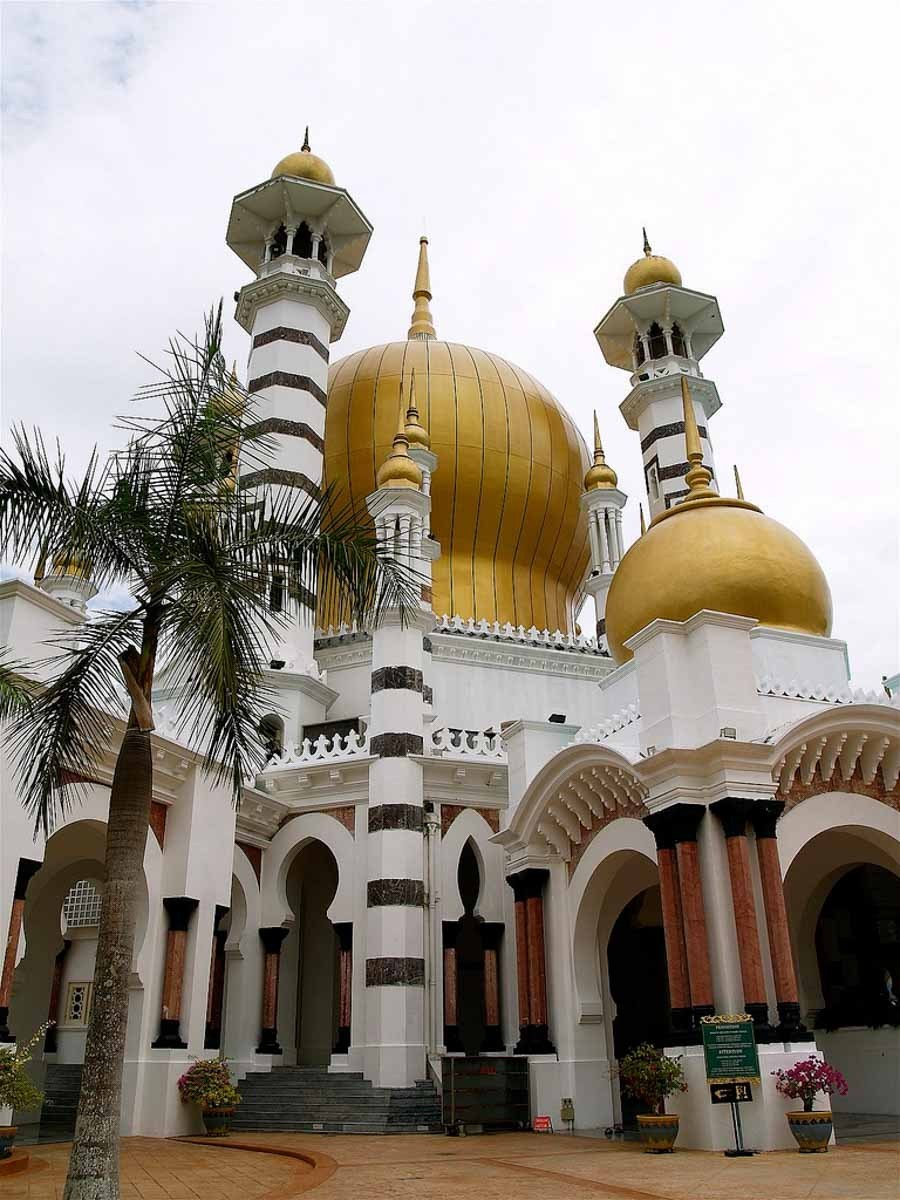Mosque: (83, 135, 836, 1123)
